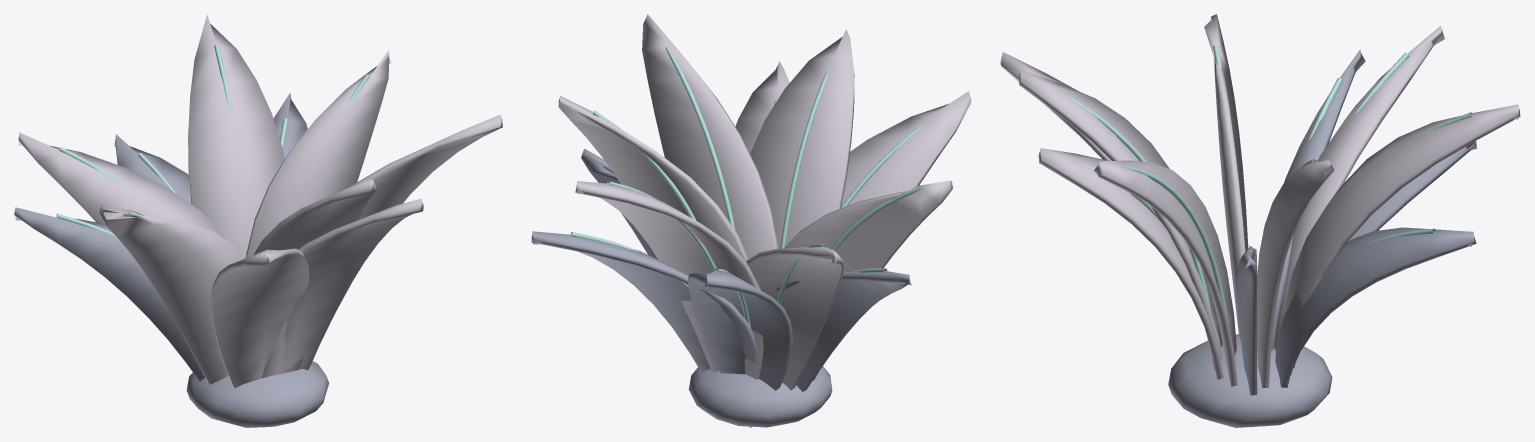
File: bio_mist_leaf_21_far.glb
3 views of the same model, side by side, from view 1: azimuth 30°, elevation 25°; view 2: azimuth 150°, elevation 25°; view 3: azimuth 270°, elevation 25° (orthographic). The views are drawn at different scales.
Visible parts, largest first — view 1: Cupped condensate leaf.011, Cupped condensate leaf.004, Cupped condensate leaf.008, Cupped condensate leaf.007, Cupped condensate leaf.010, Cupped condensate leaf.001, Cupped condensate leaf.009, Root rosette, Cupped condensate leaf.002, Cupped condensate leaf.005, Cupped condensate leaf.006, Cupped condensate leaf.003; view 2: Cupped condensate leaf.002, Cupped condensate leaf.005, Cupped condensate leaf.011, Cupped condensate leaf.006, Cupped condensate leaf.004, Cupped condensate leaf.008, Cupped condensate leaf.007, Cupped condensate leaf.001, Cupped condensate leaf.003, Root rosette, Cupped condensate leaf.009, Cupped condensate leaf.010 (+7 smaller); view 3: Cupped condensate leaf.011, Root rosette, Cupped condensate leaf.003, Cupped condensate leaf.005, Cupped condensate leaf.001, Cupped condensate leaf.008, Cupped condensate leaf.002, Cupped condensate leaf.010, Cupped condensate leaf.004, Cupped condensate leaf.009, Cupped condensate leaf, Cupped condensate leaf.006 (+3 smaller).
Part boxes in pixels (x1,y1,x2,y2): Cupped condensate leaf.011: (188,14,284,256); Cupped condensate leaf.004: (99,205,245,384); Cupped condensate leaf.008: (245,50,391,257); Cupped condensate leaf.007: (211,248,309,387); Cupped condensate leaf.010: (284,198,423,370); Cupped condensate leaf.001: (18,132,224,238); Cupped condensate leaf.009: (14,207,205,381); Root rosette: (186,361,329,427); Cupped condensate leaf.002: (253,179,375,378); Cupped condensate leaf.005: (310,114,502,365); Cupped condensate leaf.006: (114,134,190,203); Cupped condensate leaf.003: (273,92,307,158); Cupped condensate leaf.002: (750,29,854,248); Cupped condensate leaf.005: (642,14,778,258); Cupped condensate leaf.011: (575,181,763,379); Cupped condensate leaf.006: (688,271,792,427); Cupped condensate leaf.004: (784,180,953,380); Cupped condensate leaf.008: (558,96,748,261); Cupped condensate leaf.007: (841,91,971,206); Cupped condensate leaf.001: (745,246,844,390); Cupped condensate leaf.003: (531,231,756,372); Root rosette: (688,366,832,427); Cupped condensate leaf.009: (776,271,911,391); Cupped condensate leaf.010: (735,61,789,153); Cupped condensate leaf.011: (1282,104,1520,375); Root rosette: (1168,334,1332,427); Cupped condensate leaf.003: (1275,227,1476,387); Cupped condensate leaf.005: (1094,160,1237,386); Cupped condensate leaf.001: (1273,26,1444,350); Cupped condensate leaf.008: (1257,160,1334,426); Cupped condensate leaf.002: (1019,70,1218,369); Cupped condensate leaf.010: (1038,148,1223,379); Cupped condensate leaf.004: (1204,14,1248,339); Cupped condensate leaf.009: (1271,50,1365,350); Cupped condensate leaf: (1236,246,1257,427); Cupped condensate leaf.006: (1293,141,1476,367).
Size of the model in its own units: 1.83 by 1.42 by 1.9.
